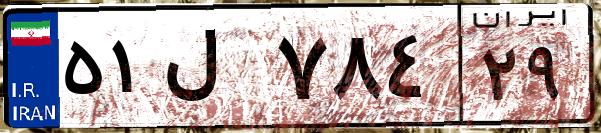1: (110, 28, 158, 98)
2: (475, 38, 525, 113)
4: (385, 28, 445, 110)
5: (57, 26, 110, 100)
7: (270, 28, 330, 110)
8: (330, 28, 385, 110)
9: (525, 38, 570, 115)
ل: (158, 20, 270, 120)
